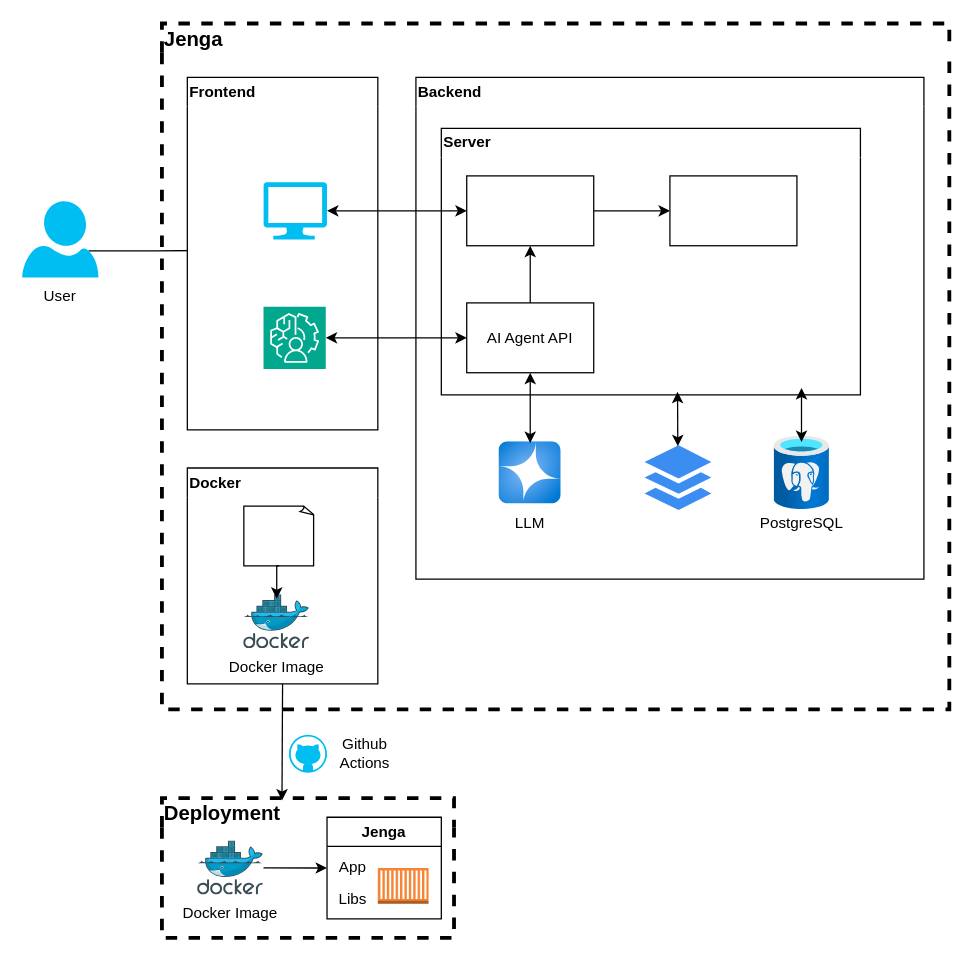
The diagram is 973 pixels wide and 961 high, and some of its shapes have lost their labels. The centre of each missing label's shape, as x and y in pixels:
AI Assistant: the point at 294,337
Business Logic: the point at 733,210
Dockerfile: the point at 278,535
Files: the point at 677,476
Jenga API: the point at 529,210
